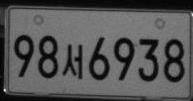3: (138, 38, 159, 82)
6: (87, 36, 110, 81)
8: (163, 37, 185, 83), (36, 34, 58, 79)
9: (112, 36, 136, 80), (13, 33, 34, 77)
서: (61, 44, 83, 78)
